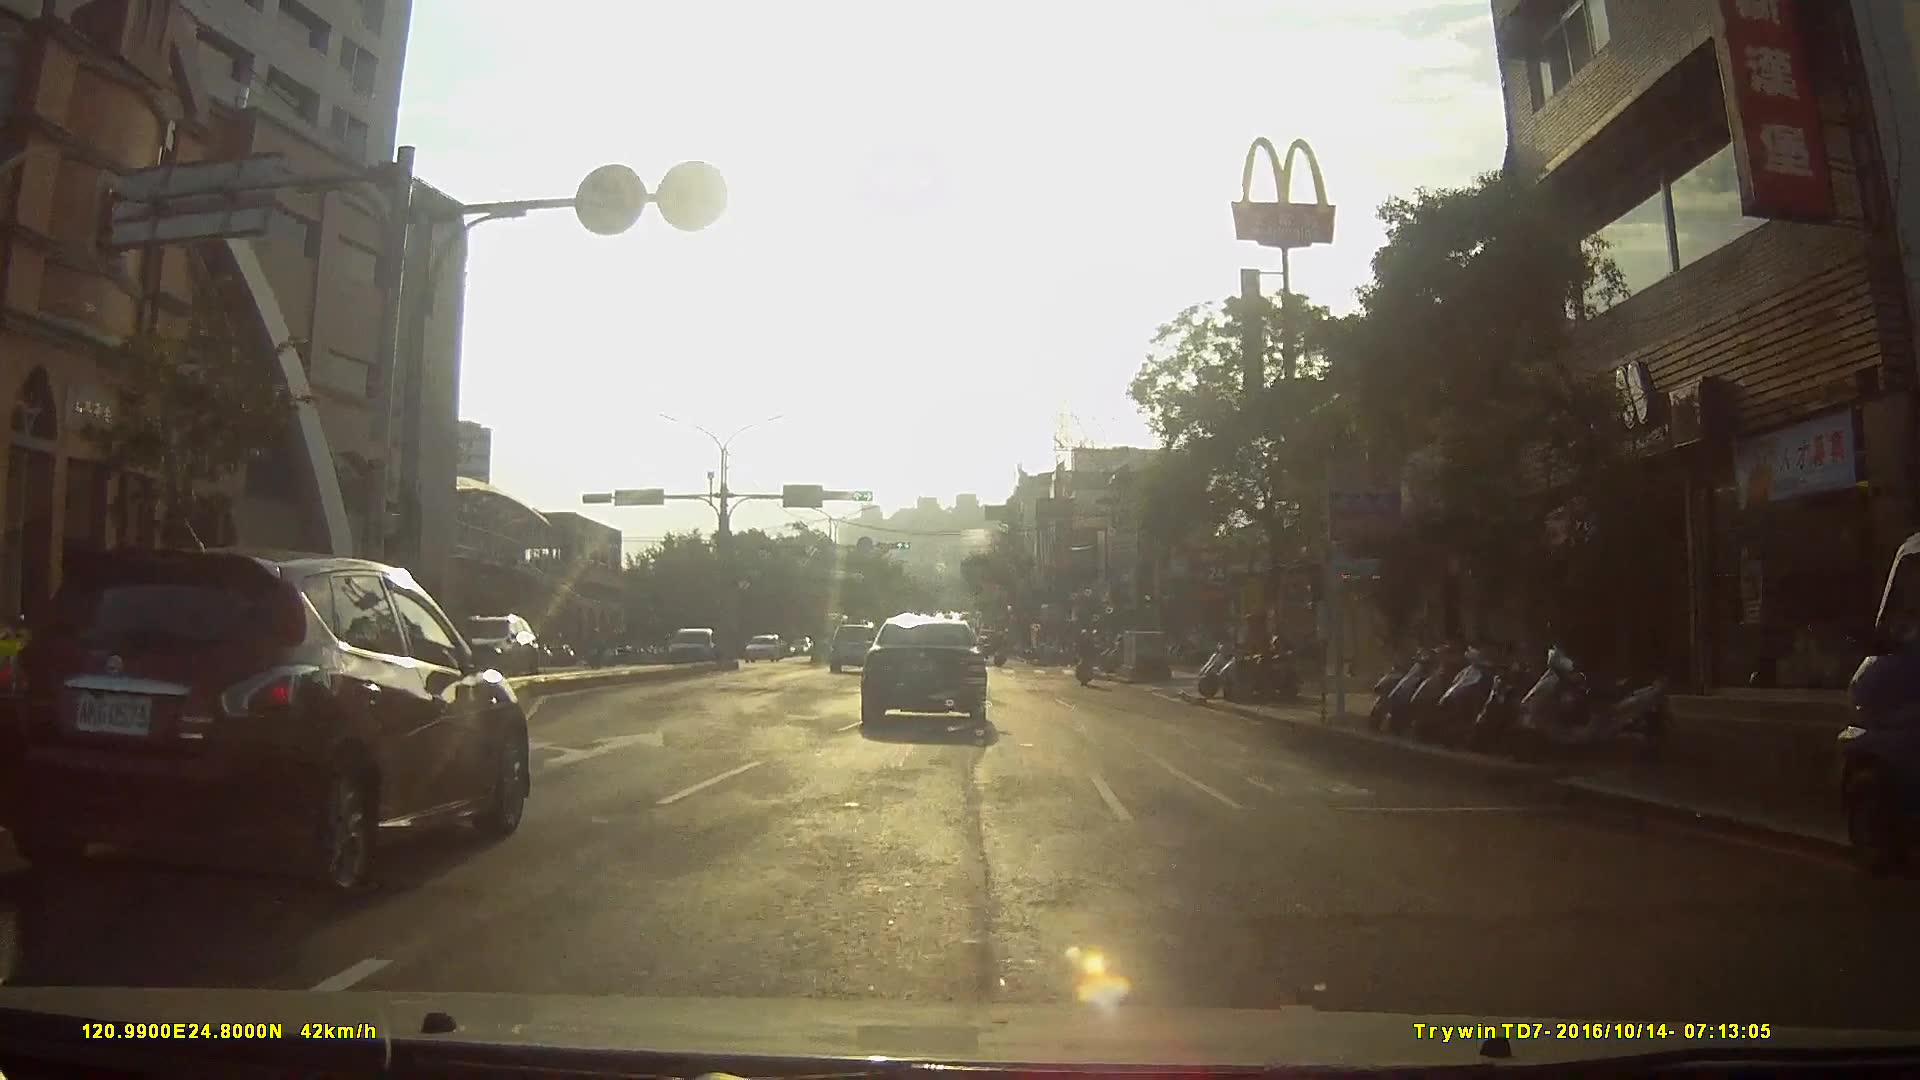rider: (1071, 627, 1097, 691)
vehicle: (4, 540, 541, 908), (1812, 504, 1920, 861), (852, 611, 996, 735), (432, 609, 542, 682), (823, 621, 880, 676), (660, 624, 723, 672), (742, 634, 781, 665)
